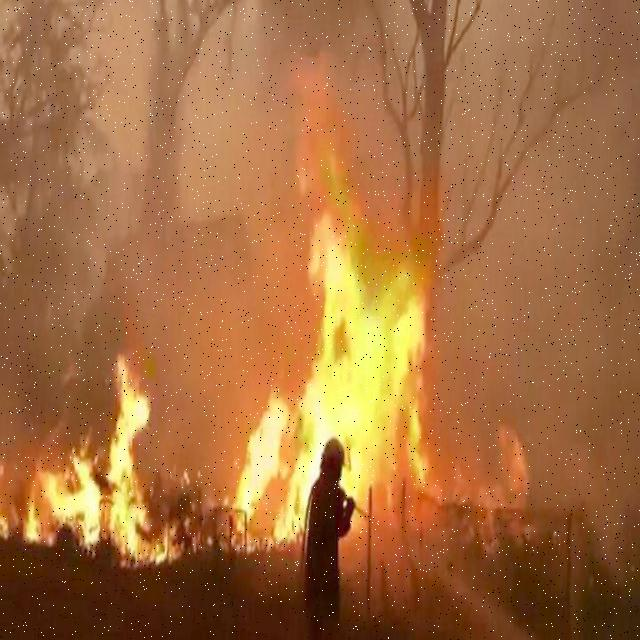fire: (300, 205, 428, 439), (39, 444, 107, 543), (240, 398, 288, 500), (114, 347, 152, 463)
